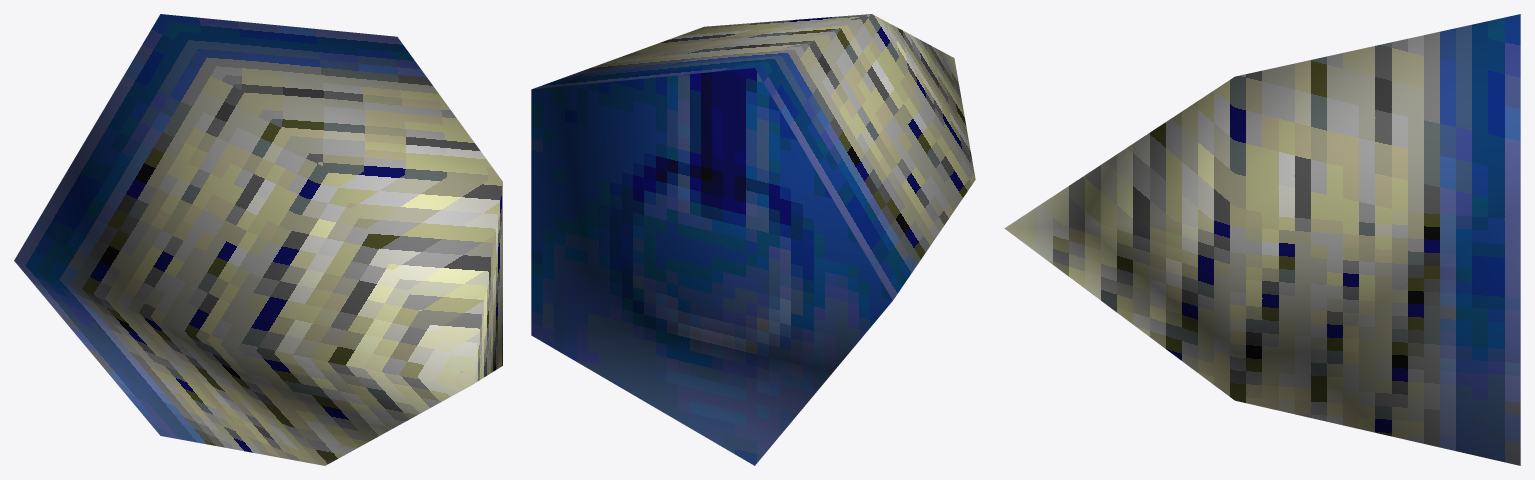
The picture shows the model from 3 angles, left to right: view 1: azimuth 30°, elevation 25°; view 2: azimuth 150°, elevation 25°; view 3: azimuth 270°, elevation 25°; orthographic projection. The views are drawn at different scales.
Parts seen in each view (by area): view 1: 3b206080; view 2: 3b206080; view 3: 3b206080.
Boxes of the visible parts, x1,y1,x2,y2 form: 3b206080: (14,14,502,465); 3b206080: (531,14,975,465); 3b206080: (1004,14,1520,465).
Size of the model in its own units: 7.71 by 8.1 by 9.09.
2 materials, 2 textured.
